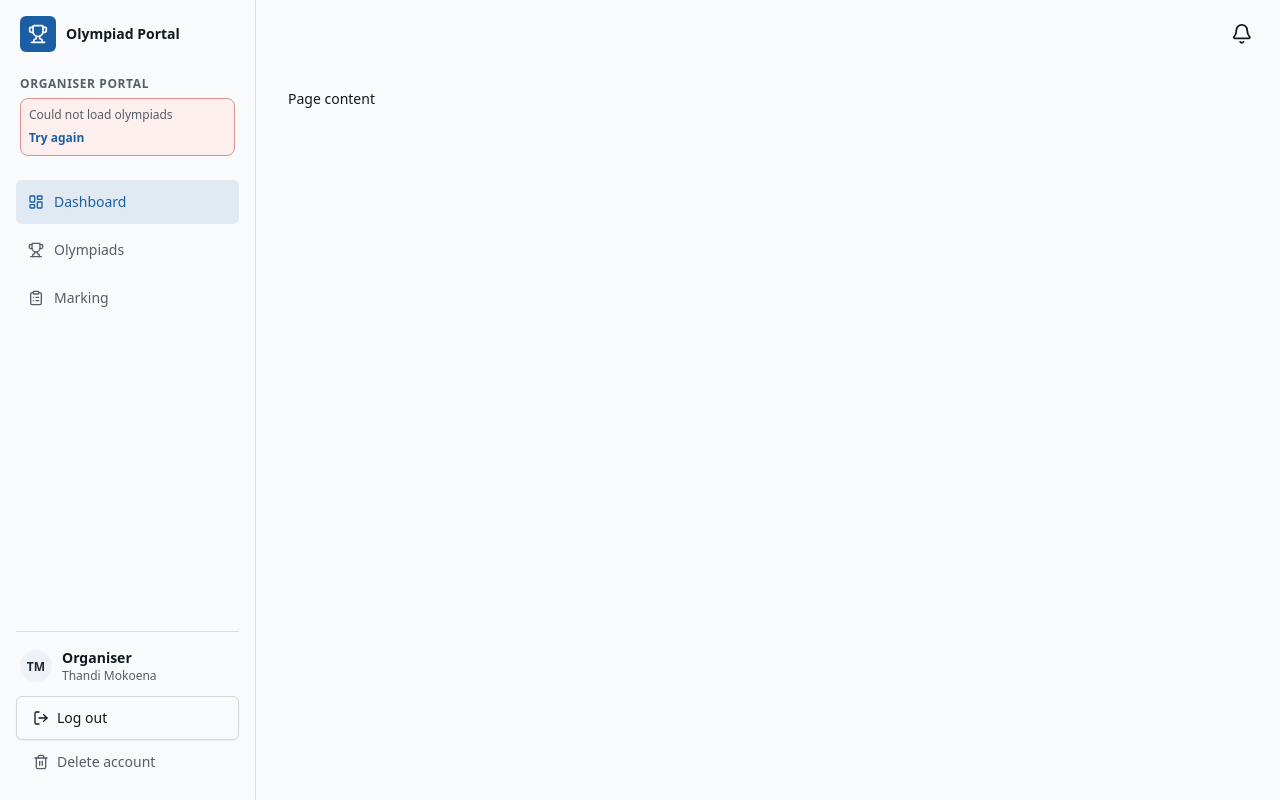
Scenario: AppShell › shows an olympiad loading error and lets the organiser retry
The width and height of the screenshot is (1280, 800).
Expected: the message shows "Could not load olympiads", x1=29 y1=106 x2=173 y2=123
Click the button "Try again".
click(57, 138)  # box x1=29 y1=130 x2=84 y2=147
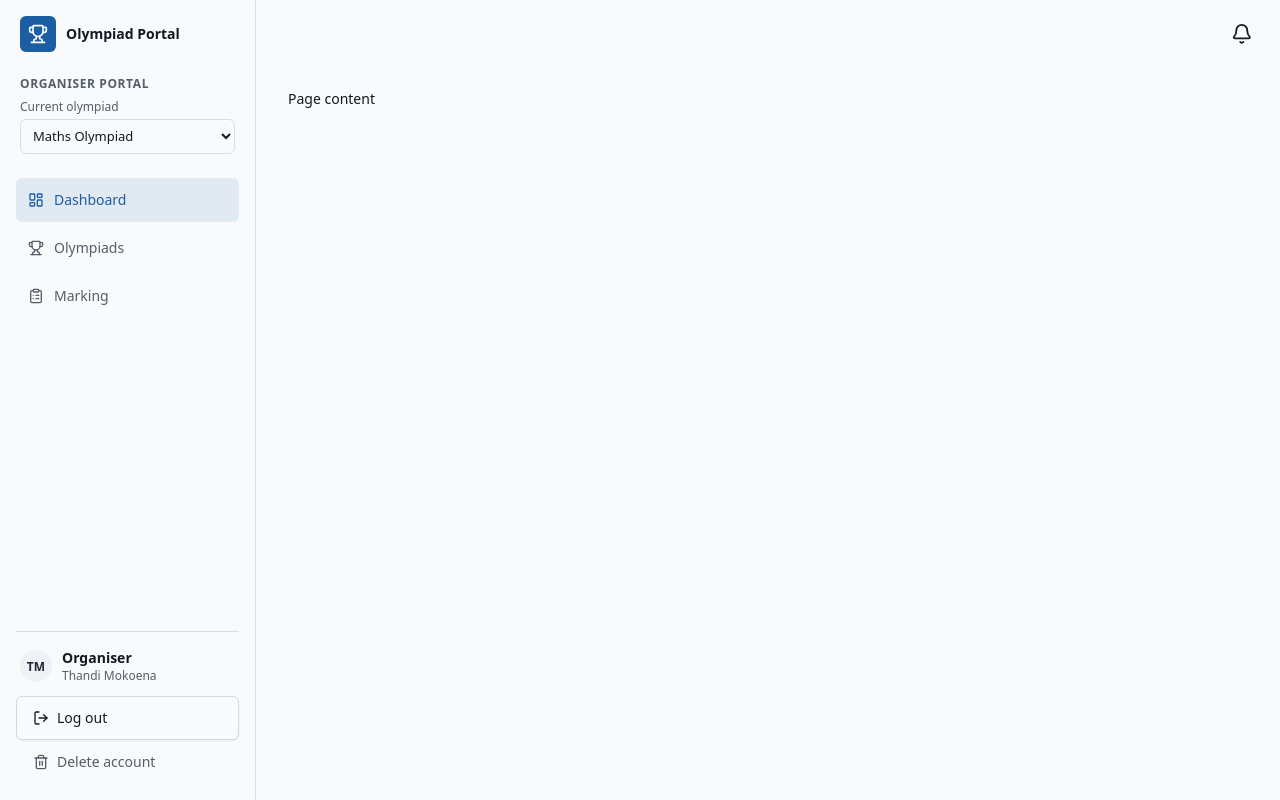
Result: the dropdown labelled "Current olympiad" shows "Maths Olympiad" at x1=20 y1=119 x2=235 y2=154
